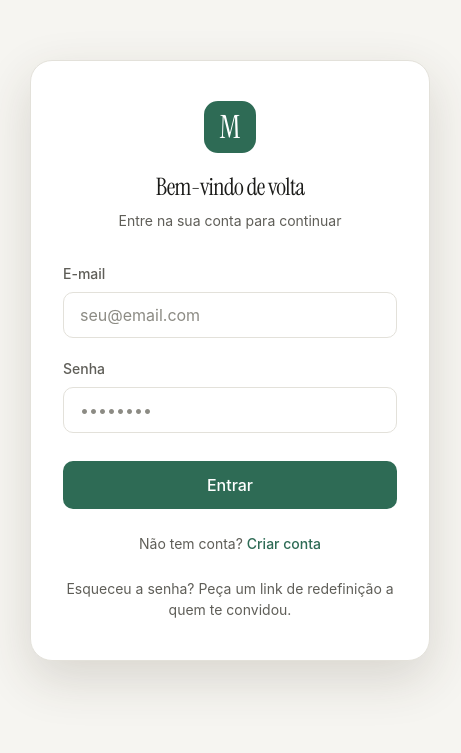
Test: LoginPage — mensagens de erro em português › muitas tentativas
Step 1. Type "ana@x.com" into the field labelled "E-mail" → (230, 314), box top-left (63, 291), bottom-right (397, 337)
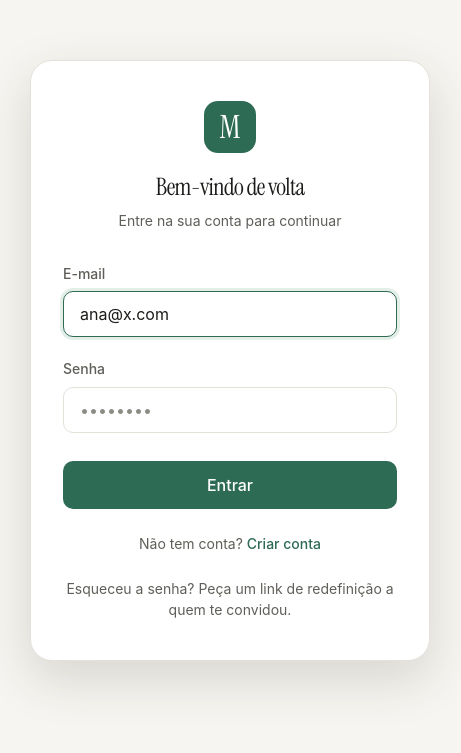
Step 2. Type "errada-123" into the password field labelled "Senha" → (230, 409), box top-left (63, 386), bottom-right (397, 432)
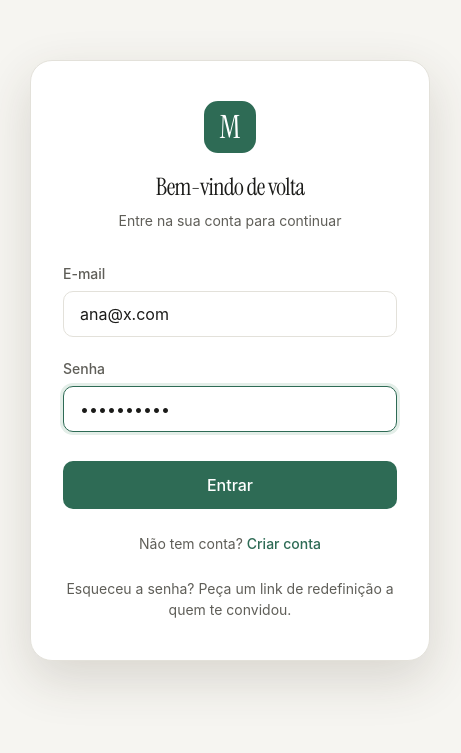
Step 3. Click the button "Entrar" → (230, 484), box top-left (63, 460), bottom-right (397, 508)
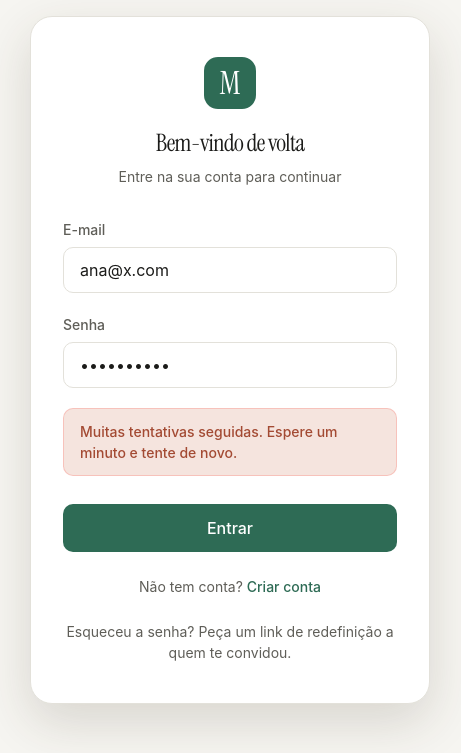
Expected: the text "Muitas tentativas seguidas" is shown, top-left (80, 423), bottom-right (338, 461)
